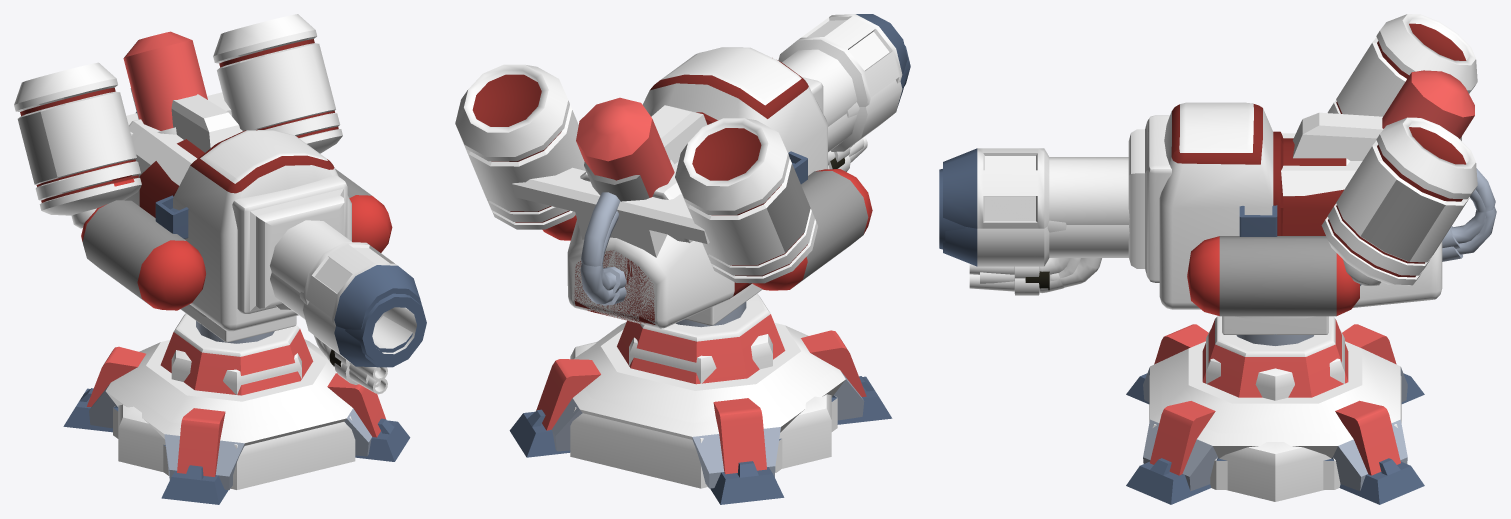
Rendered from fire_tower_F.fbx.
3 renders of one model, left to right at view 1: azimuth 30°, elevation 25°; view 2: azimuth 150°, elevation 25°; view 3: azimuth 270°, elevation 25°, orthographic. The views are drawn at different scales.
Parts seen in each view (by area): view 1: FireTower_TURRET_L02, FireTower_TURRET_L03, FireTower_BASE_L02, barrel (×3), FireTower_BASE_L03, FireTower_BASE_L01; view 2: FireTower_TURRET_L03, FireTower_TURRET_L02, FireTower_BASE_L02, FireTower_BASE_L03, barrel (×3), FireTower_BASE_L01, FireTower_TURRET_L01; view 3: FireTower_TURRET_L02, FireTower_TURRET_L03, barrel (×3), FireTower_BASE_L02, FireTower_BASE_L03, FireTower_BASE_L01, FireTower_TURRET_L01, xoay.
Part boxes in pixels (left/top/right/bottom): FireTower_TURRET_L02: left=81, top=31, right=392, bottom=331; FireTower_TURRET_L03: left=14, top=14, right=342, bottom=342; FireTower_BASE_L02: left=89, top=313, right=371, bottom=489; barrel (×3): left=270, top=220, right=426, bottom=394; FireTower_BASE_L03: left=63, top=346, right=410, bottom=504; FireTower_BASE_L01: left=118, top=350, right=355, bottom=489; FireTower_TURRET_L03: left=455, top=64, right=817, bottom=325; FireTower_TURRET_L02: left=542, top=47, right=872, bottom=328; FireTower_BASE_L02: left=551, top=293, right=864, bottom=488; FireTower_BASE_L03: left=509, top=330, right=892, bottom=504; barrel (×3): left=778, top=14, right=910, bottom=171; FireTower_BASE_L01: left=570, top=334, right=831, bottom=488; FireTower_TURRET_L01: left=574, top=162, right=655, bottom=324; FireTower_TURRET_L02: left=1128, top=70, right=1495, bottom=318; FireTower_TURRET_L03: left=1222, top=14, right=1477, bottom=334; barrel (×3): left=939, top=148, right=1129, bottom=295; FireTower_BASE_L02: left=1143, top=316, right=1407, bottom=491; FireTower_BASE_L03: left=1126, top=324, right=1424, bottom=504; FireTower_BASE_L01: left=1149, top=329, right=1401, bottom=501; FireTower_TURRET_L01: left=1442, top=136, right=1496, bottom=261; xoay: left=1236, top=334, right=1313, bottom=345.
Bounding box in the file's own units: 5.62 × 6.38 × 8.76.
Materials: 1 (1 with a texture image).
